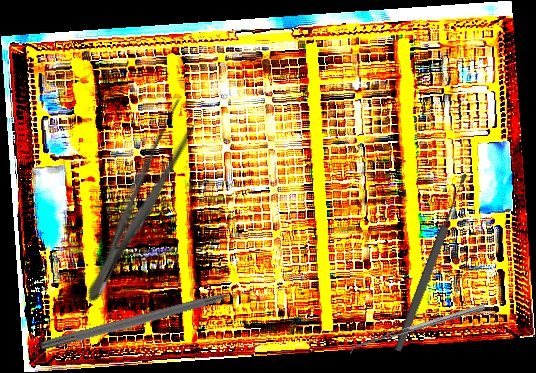Dressing Forceps: (75, 95, 204, 310)
Hook Surgical: (39, 283, 256, 354)
Spatula Surgical: (347, 303, 488, 357)
Surgical Spoon: (392, 172, 471, 353)
